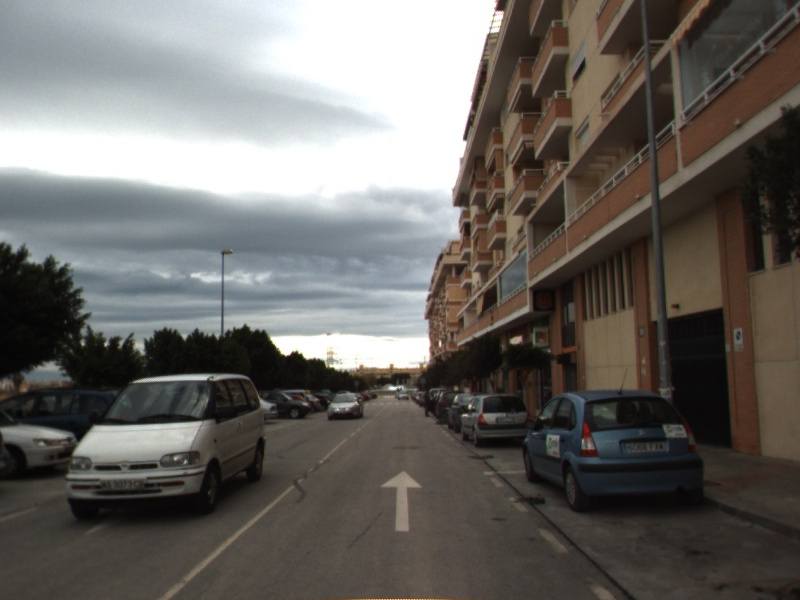STRAIGHT: (378, 468, 424, 534)
